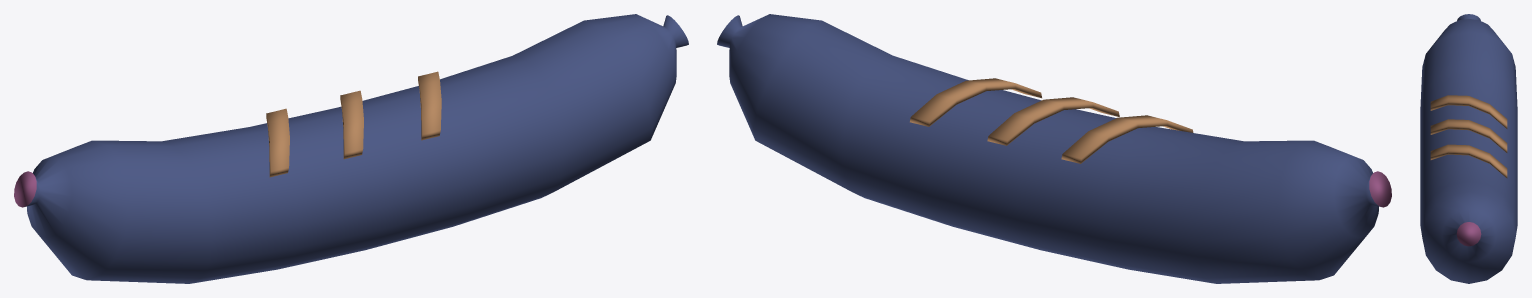
Rendered from CookedSausage.fbx.
3 views of the same model, side by side, from view 1: azimuth 30°, elevation 25°; view 2: azimuth 150°, elevation 25°; view 3: azimuth 270°, elevation 25° (orthographic). The views are drawn at different scales.
Parts seen in each view (by area): view 1: SausageBody.001, SausageGrillMarks; view 2: SausageBody.001, SausageGrillMarks; view 3: SausageBody.001, SausageGrillMarks.
Part boxes in pixels (left/top/right/bottom): SausageBody.001: left=14, top=14, right=688, bottom=283; SausageGrillMarks: left=266, top=71, right=441, bottom=177; SausageBody.001: left=717, top=14, right=1391, bottom=283; SausageGrillMarks: left=910, top=78, right=1193, bottom=163; SausageBody.001: left=1420, top=14, right=1517, bottom=283; SausageGrillMarks: left=1430, top=95, right=1507, bottom=178.
Bounding box in the file's own units: 39.32 × 8.99 × 7.47.
